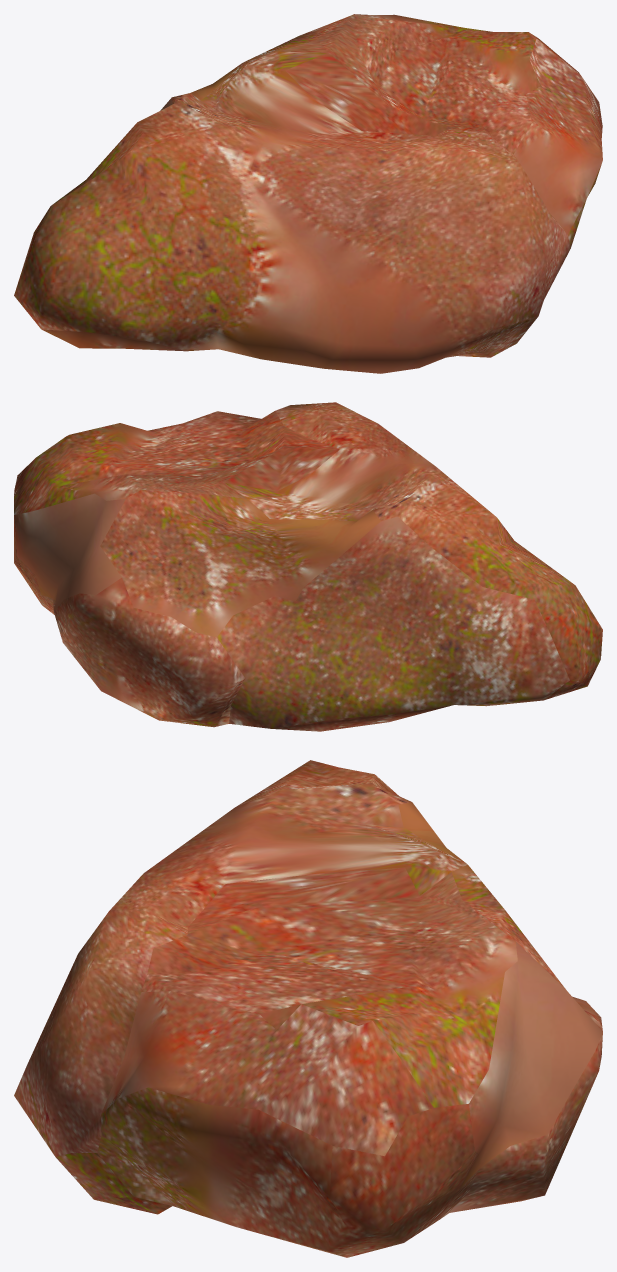
The model's file is piece2.fbx.
3 renders of one model, top to bottom at view 1: azimuth 30°, elevation 25°; view 2: azimuth 150°, elevation 25°; view 3: azimuth 270°, elevation 25°, orthographic. The views are drawn at different scales.
Parts seen in each view (by area): view 1: Aset_nature_rock_S_wdcbcds_00_LOD3; view 2: Aset_nature_rock_S_wdcbcds_00_LOD3; view 3: Aset_nature_rock_S_wdcbcds_00_LOD3.
Part boxes in pixels (box(x1,y1,x2,y2)): Aset_nature_rock_S_wdcbcds_00_LOD3: box(14, 14, 602, 373); Aset_nature_rock_S_wdcbcds_00_LOD3: box(14, 402, 602, 731); Aset_nature_rock_S_wdcbcds_00_LOD3: box(14, 760, 602, 1257).
Size of the model in its own units: 87.84 by 32.93 by 61.43.
Materials: 1 (1 with a texture image).
